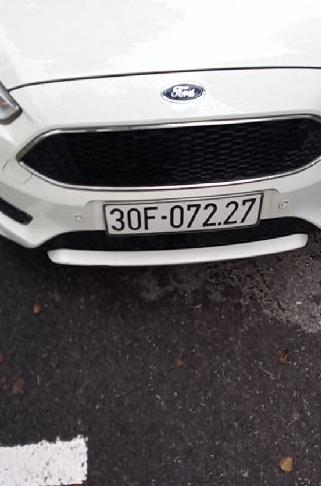Plate-iWeP: (101, 190, 266, 241)
